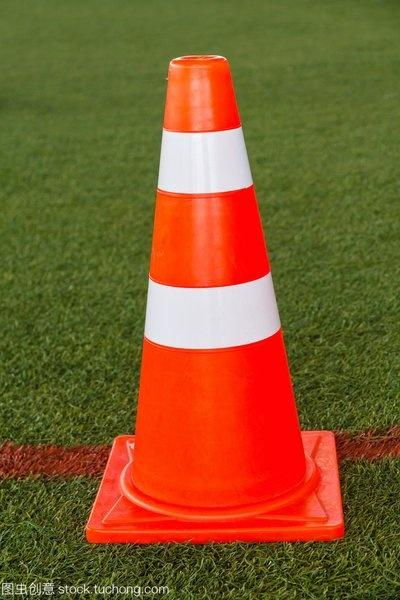cone_barrel: (115, 53, 321, 521)
